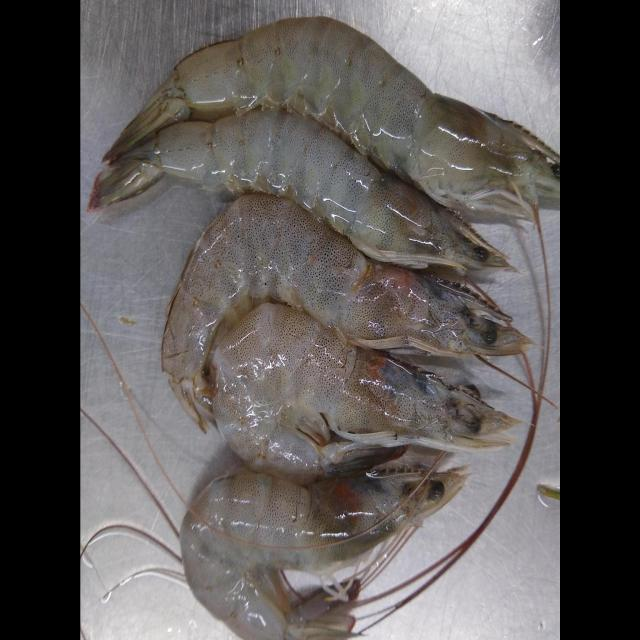shrimp: (105, 17, 560, 218), (161, 193, 531, 432), (89, 110, 510, 270), (210, 303, 518, 482), (180, 467, 466, 640)
